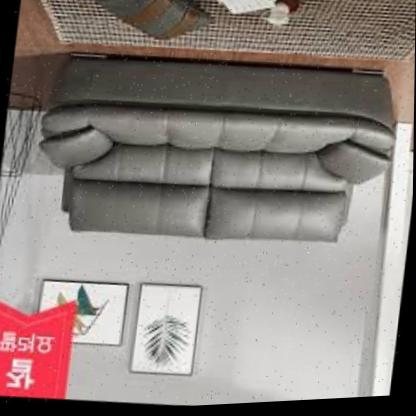Sofa: (23, 31, 415, 281)
